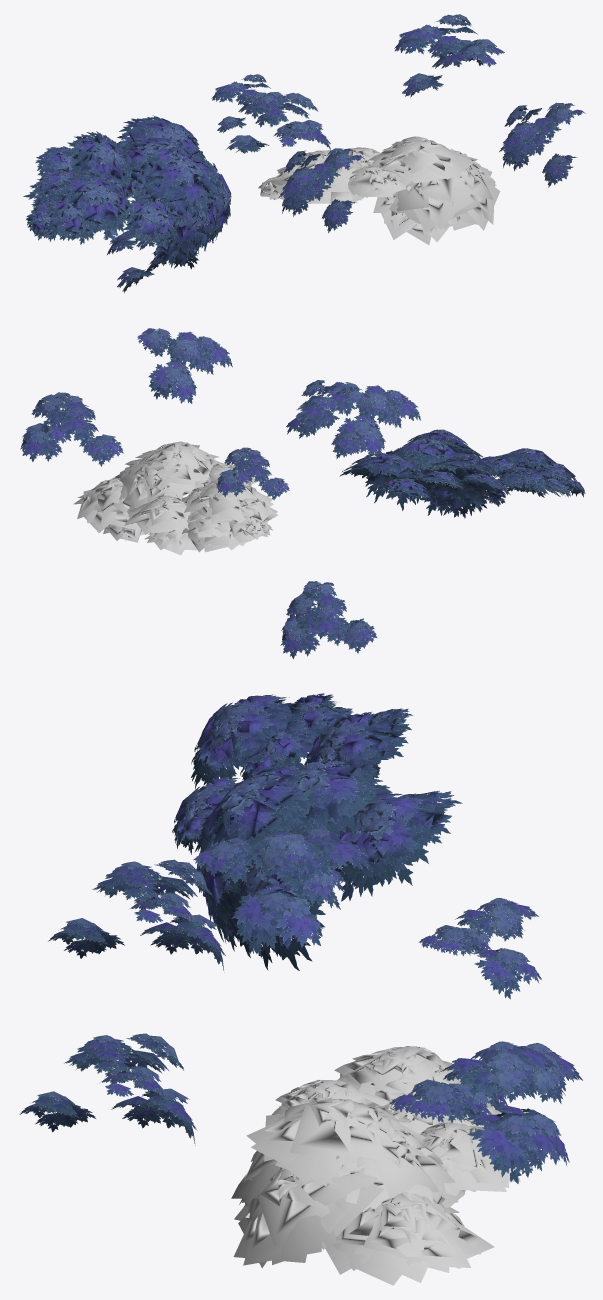
File: Scene_6010_yinying.FBX
3 views of the same model, one above another, from view 1: azimuth 30°, elevation 25°; view 2: azimuth 150°, elevation 25°; view 3: azimuth 270°, elevation 25° (orthographic). The views are drawn at different scales.
Visible parts, largest first — view 1: 6010_shuye4; view 2: 6010_shuye4; view 3: 6010_shuye4.
Boxes of the visible parts, <box> form: 6010_shuye4: <box>23,14,585,292</box>; 6010_shuye4: <box>20,328,585,659</box>; 6010_shuye4: <box>19,693,583,1285</box>.
Bounding box in the file's own units: 902 × 363 × 493.
